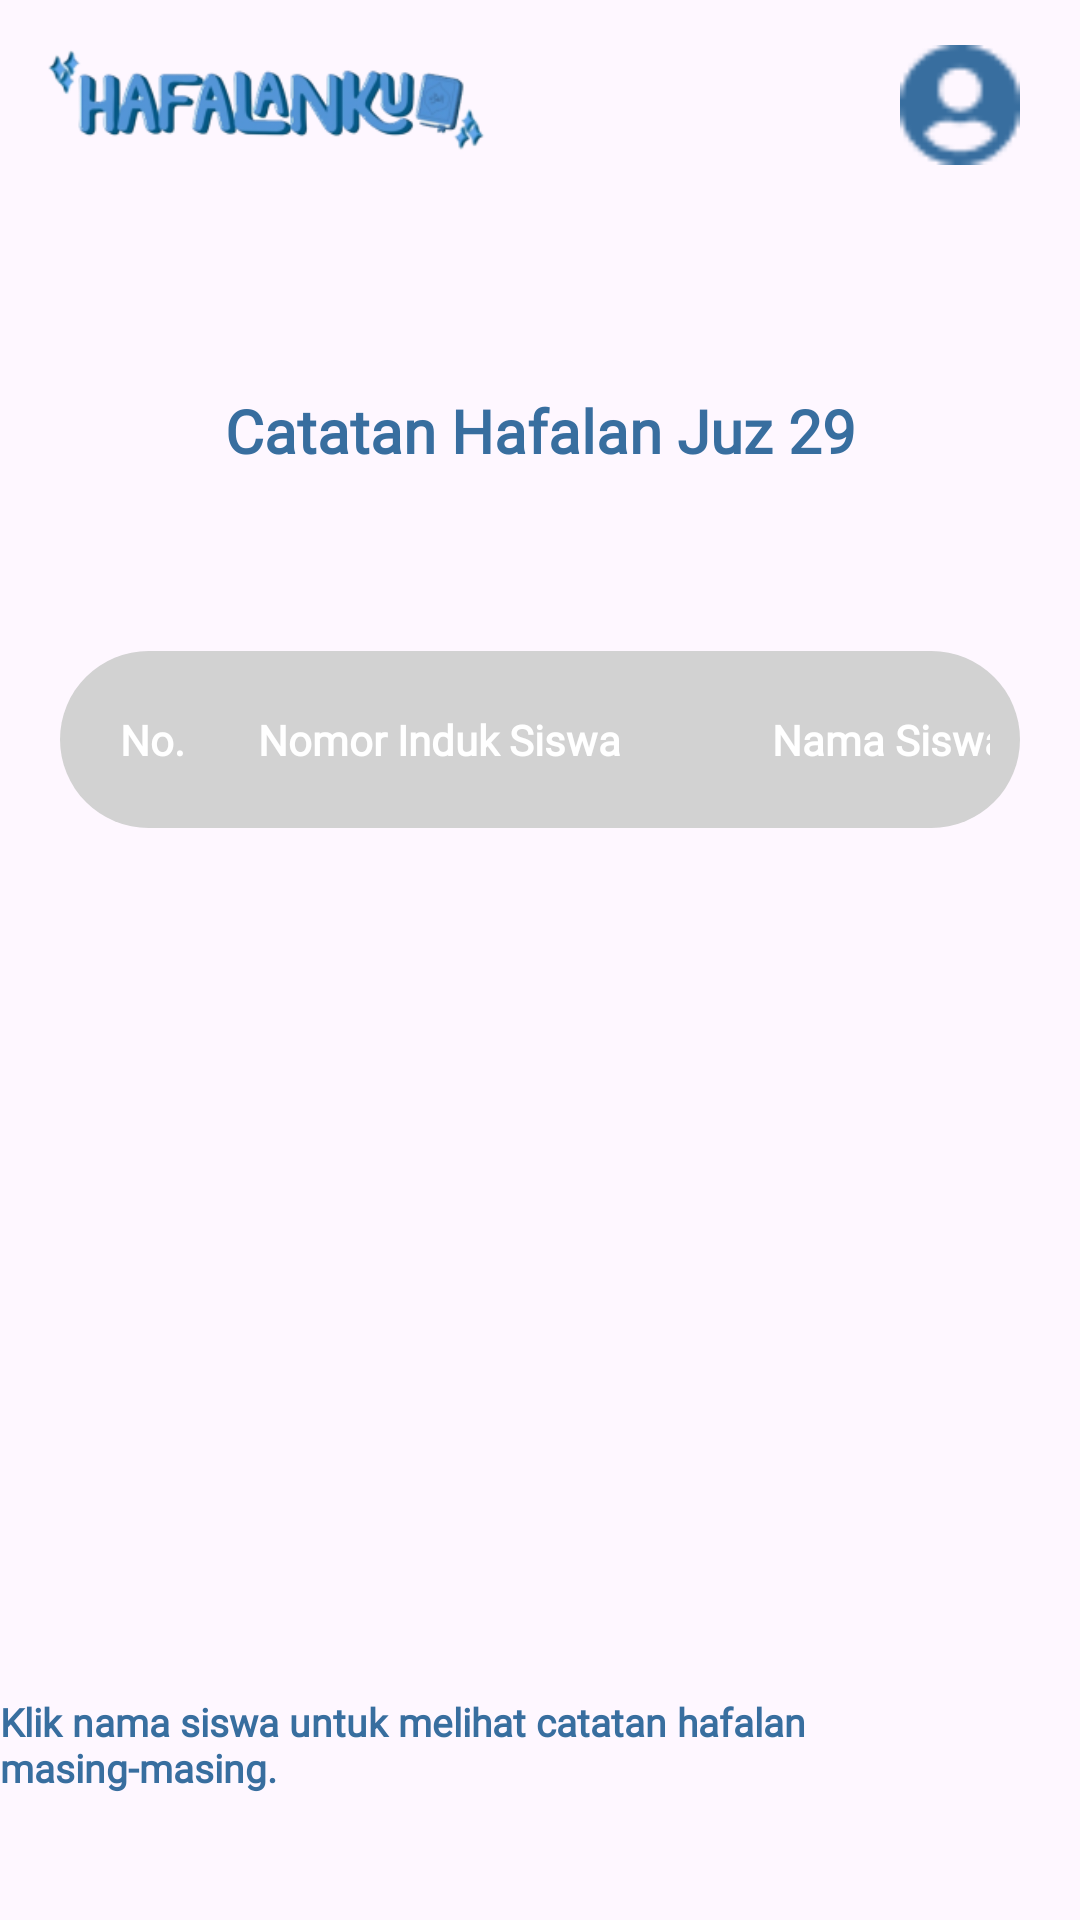

Screen size 1080x1920. Icon name, then its center in pixels as point (x, y):
profile: point (960, 105)
